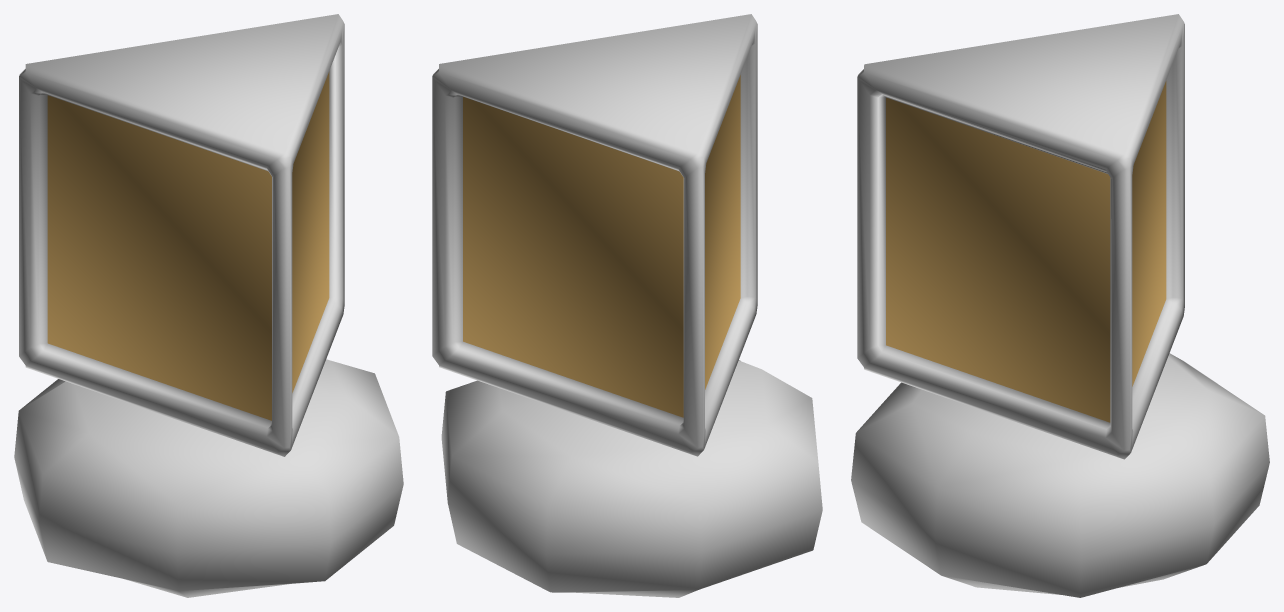
File: MonitorModel.fbx
3 views of the same model, side by side, from view 1: azimuth 30°, elevation 25°; view 2: azimuth 150°, elevation 25°; view 3: azimuth 270°, elevation 25° (orthographic).
Parts seen in each view (by area): view 1: Cone; view 2: Cone; view 3: Cone.
Part boxes in pixels (box(x1,y1,x2,y2)): Cone: box(14, 14, 403, 597); Cone: box(432, 14, 822, 597); Cone: box(851, 14, 1269, 597).
Bounding box in the file's own units: 2.04 × 2.57 × 2.04.
